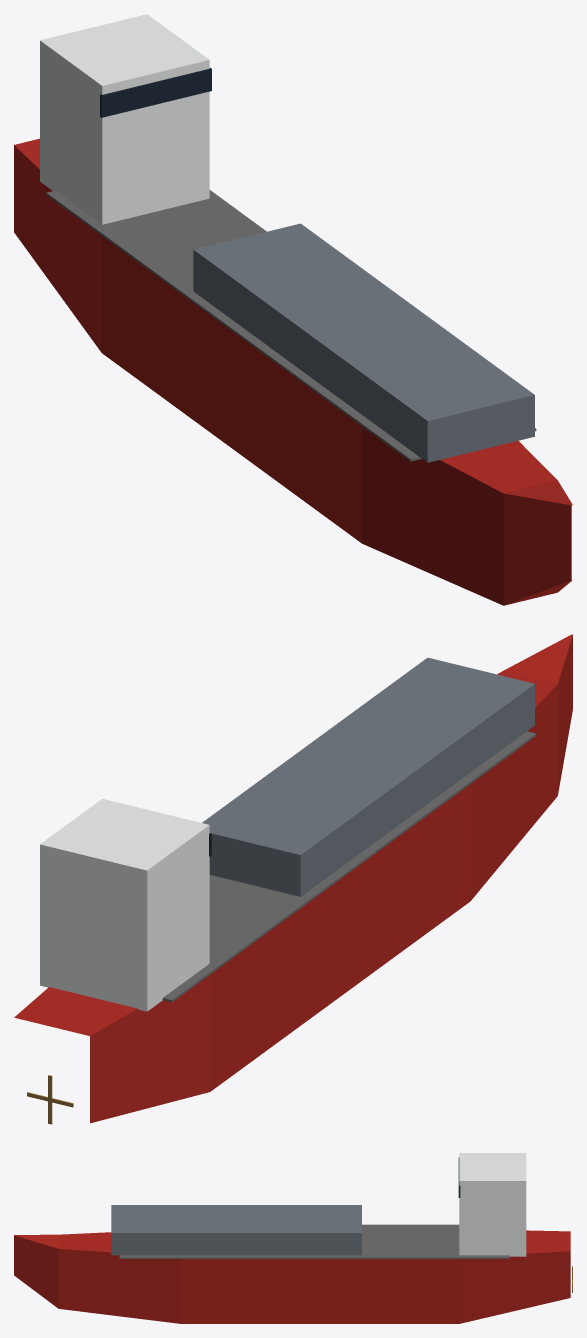
Rendered from veh_naval_merchant_a08_lod2.glb.
The picture shows the model from 3 angles, top to bottom: view 1: azimuth 30°, elevation 25°; view 2: azimuth 150°, elevation 25°; view 3: azimuth 270°, elevation 25°; orthographic projection. The views are drawn at different scales.
Parts seen in each view (by area): view 1: body; view 2: body; view 3: body.
Part boxes in pixels (x1,y1,x2,y2): body: (14, 14, 572, 605); body: (14, 634, 572, 1123); body: (14, 1153, 570, 1323).
Bounding box in the file's own units: 4.41 × 8.94 × 31.73.
